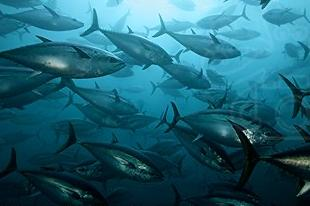Scombridae -Tunas-: (50, 118, 165, 183), (75, 5, 175, 70), (0, 31, 125, 81), (0, 143, 103, 203), (163, 97, 274, 148), (148, 6, 239, 63), (63, 75, 141, 115), (0, 0, 84, 31), (260, 0, 310, 25)
